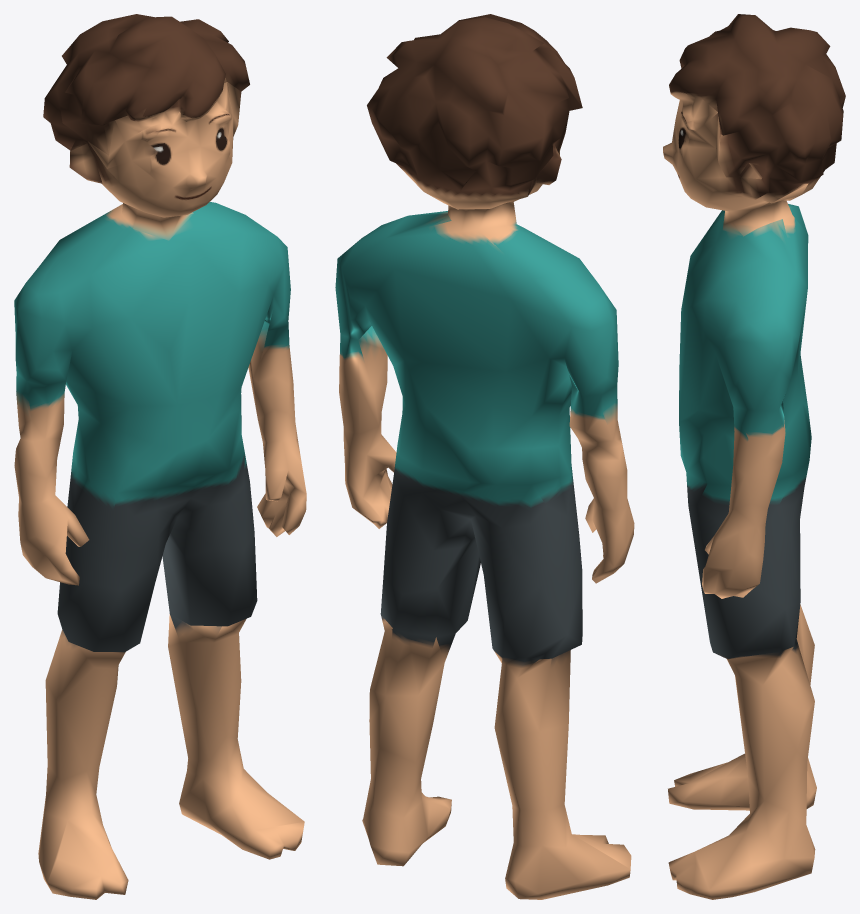
File: npc_staff.glb
3 renders of one model, left to right at view 1: azimuth 30°, elevation 25°; view 2: azimuth 150°, elevation 25°; view 3: azimuth 270°, elevation 25°, orthographic. The views are drawn at different scales.
Parts seen in each view (by area): view 1: npc_staff_body; view 2: npc_staff_body; view 3: npc_staff_body.
Boxes of the visible parts, x1,y1,x2,y2 form: npc_staff_body: (14, 14, 306, 899); npc_staff_body: (335, 14, 634, 899); npc_staff_body: (663, 14, 845, 899).
Size of the model in its own units: 0.5555 by 1.6 by 0.3242.
1 material, 1 textured.
